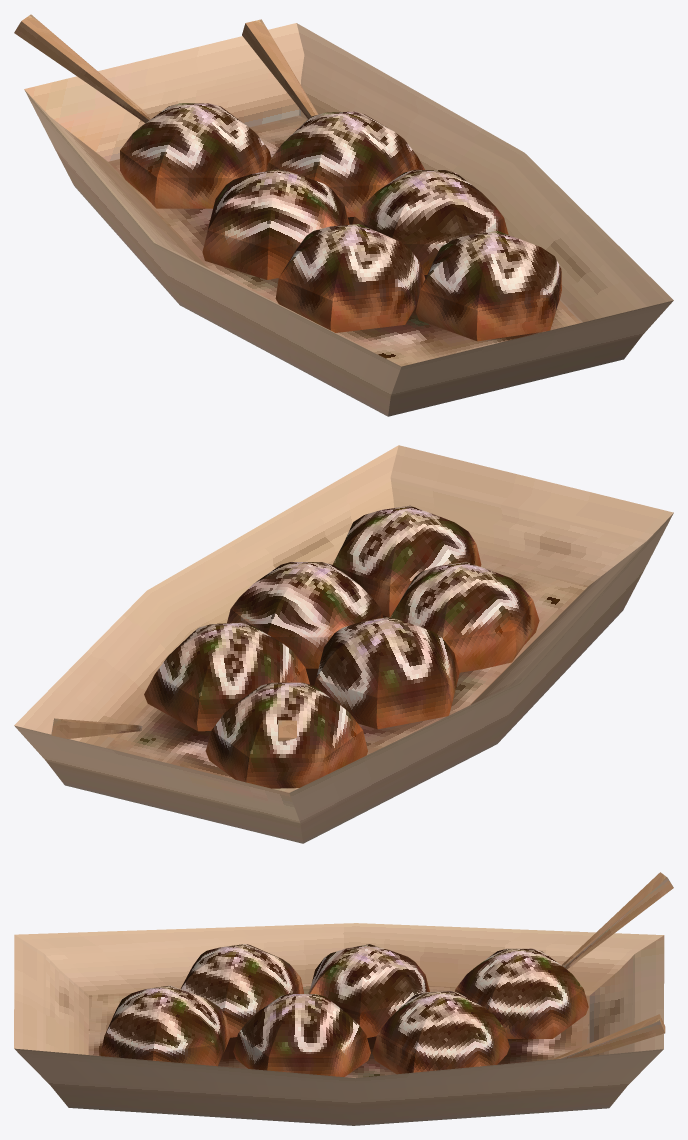
The model's file is takoyaki.glb.
3 views of the same model, one above another, from view 1: azimuth 30°, elevation 25°; view 2: azimuth 150°, elevation 25°; view 3: azimuth 270°, elevation 25° (orthographic). The views are drawn at different scales.
Visible parts, largest first — view 1: pSphere26_takoyaki_blinn_texture_0; view 2: pSphere26_takoyaki_blinn_texture_0; view 3: pSphere26_takoyaki_blinn_texture_0.
Boxes of the visible parts, box(x1,y1,x2,y2) form: pSphere26_takoyaki_blinn_texture_0: box(14, 14, 673, 416); pSphere26_takoyaki_blinn_texture_0: box(14, 445, 673, 843); pSphere26_takoyaki_blinn_texture_0: box(14, 872, 673, 1125).
Size of the model in its own units: 0.5561 by 0.214 by 1.
1 material, 1 textured.
